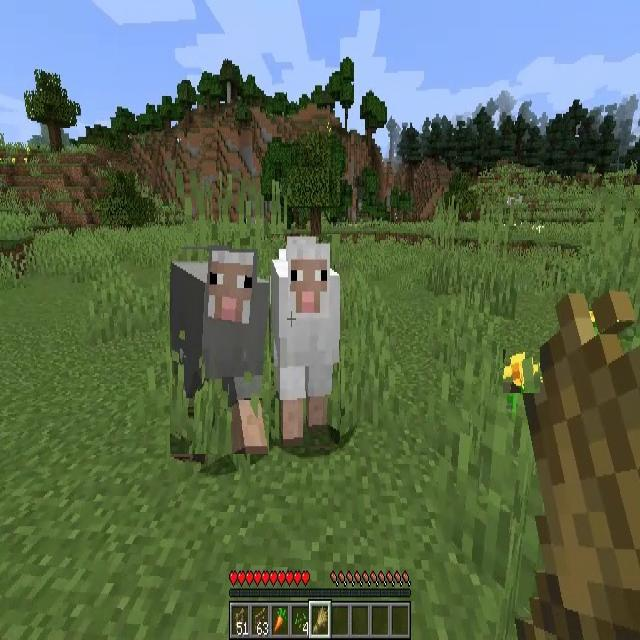flower: (503, 349, 540, 393)
sheep: (170, 249, 269, 454), (271, 234, 340, 446)
